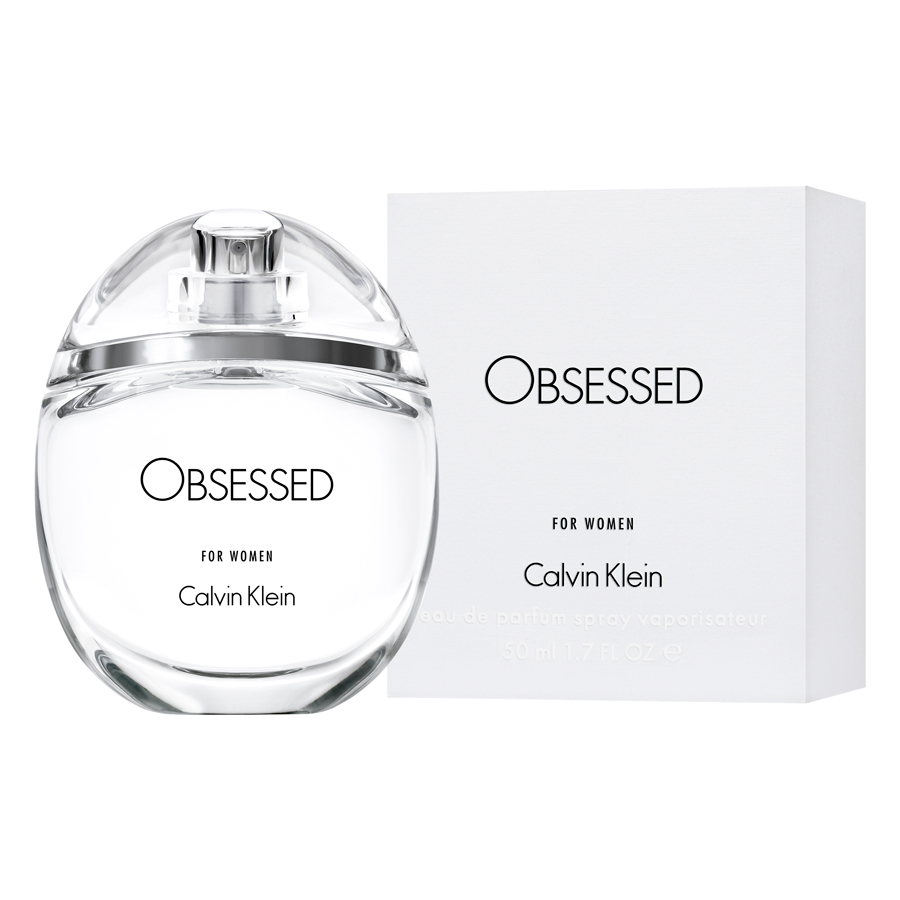Calvin Klein: (523, 560, 669, 594), (177, 580, 299, 613)
